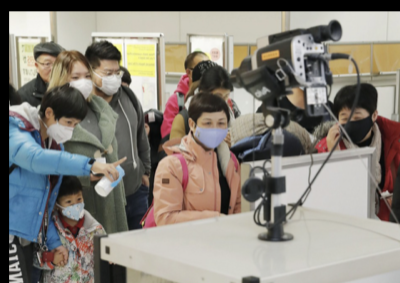with_mask: (194, 114, 229, 147), (338, 109, 371, 141), (94, 64, 122, 96), (50, 115, 79, 144), (68, 68, 94, 100), (61, 191, 85, 221)
